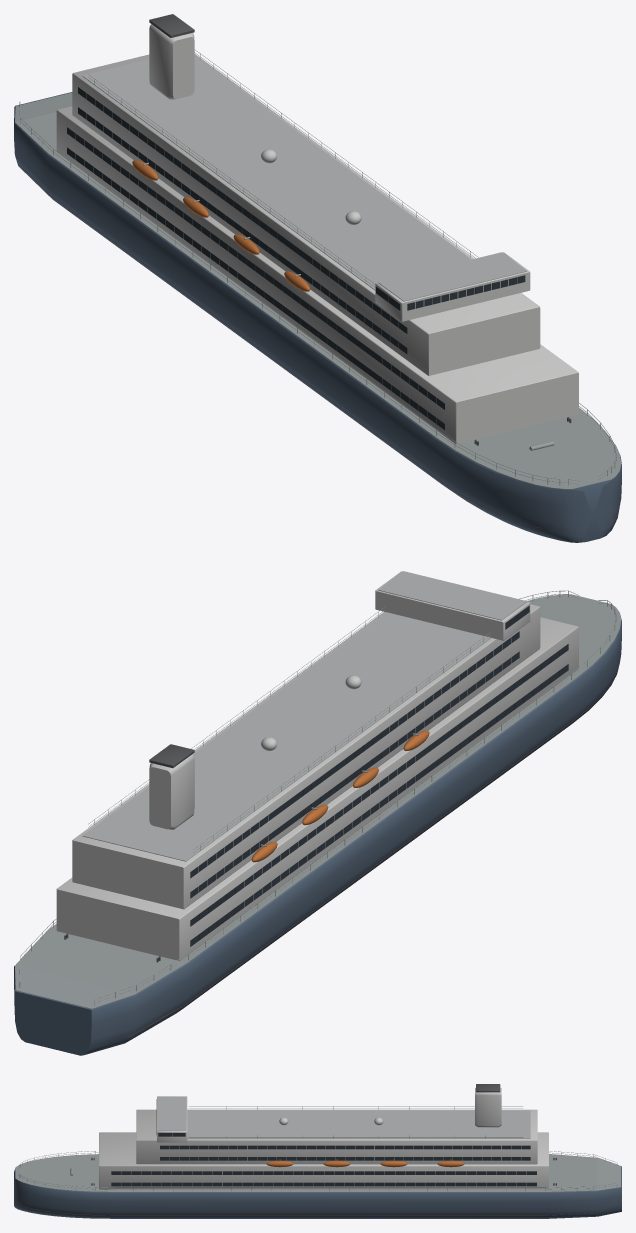
Rendered from vessel-passenger.glb.
3 renders of one model, top to bottom at view 1: azimuth 30°, elevation 25°; view 2: azimuth 150°, elevation 25°; view 3: azimuth 270°, elevation 25°, orthographic. The views are drawn at different scales.
Visible parts, largest first — view 1: vessel-passenger; view 2: vessel-passenger; view 3: vessel-passenger.
Boxes of the visible parts, x1,y1,x2,y2 form: vessel-passenger: (14, 14, 621, 542); vessel-passenger: (14, 571, 621, 1055); vessel-passenger: (14, 1084, 621, 1218).
Bounding box in the file's own units: 24 × 33.9 × 160.
